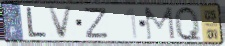1: (125, 7, 139, 39)
L: (25, 6, 48, 39)
M: (143, 6, 177, 42)
Q: (173, 5, 204, 43)
V: (47, 5, 75, 41)
Z: (83, 7, 110, 40)
